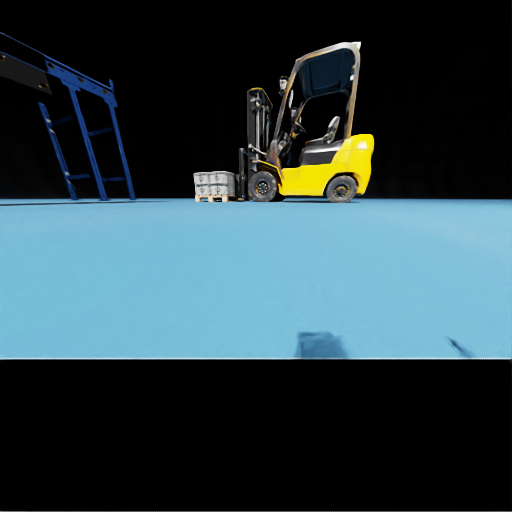transportation_area: (210, 184, 238, 194)
